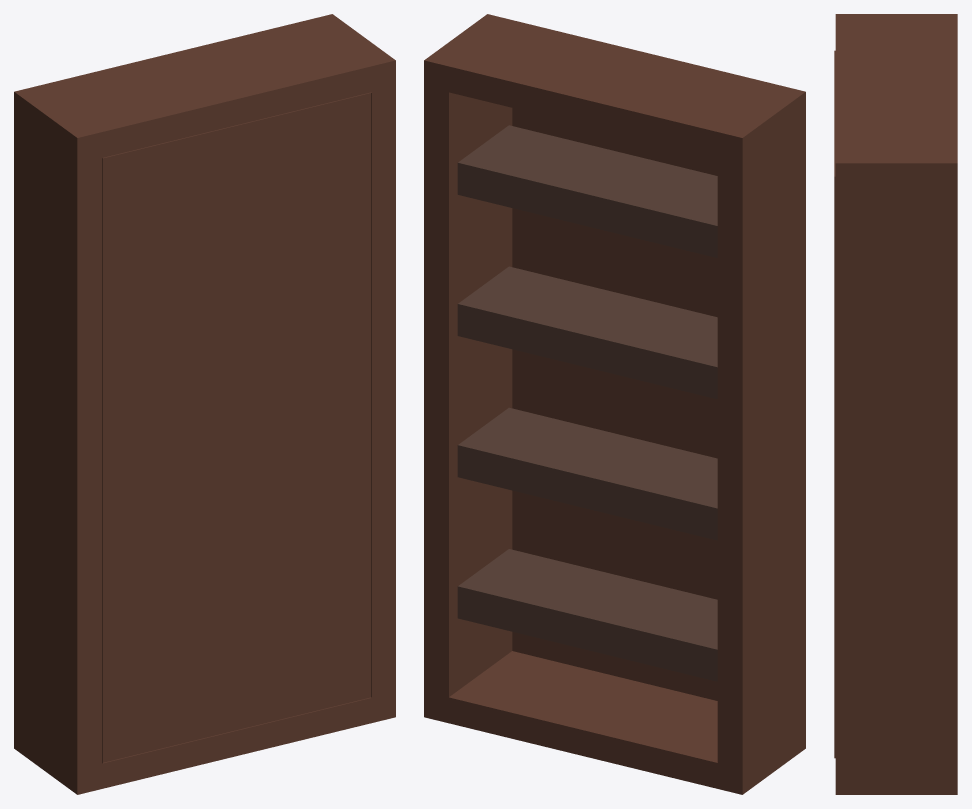
File: armory.fbx
3 views of the same model, side by side, from view 1: azimuth 30°, elevation 25°; view 2: azimuth 150°, elevation 25°; view 3: azimuth 270°, elevation 25° (orthographic). The views are drawn at different scales.
Parts seen in each view (by area): view 1: armoire; view 2: armoire; view 3: armoire.
Part boxes in pixels (<box>): armoire: <box>14,14,395,794</box>; armoire: <box>424,14,805,794</box>; armoire: <box>834,14,957,794</box>.
Bounding box in the file's own units: 531 × 1047 × 185.
